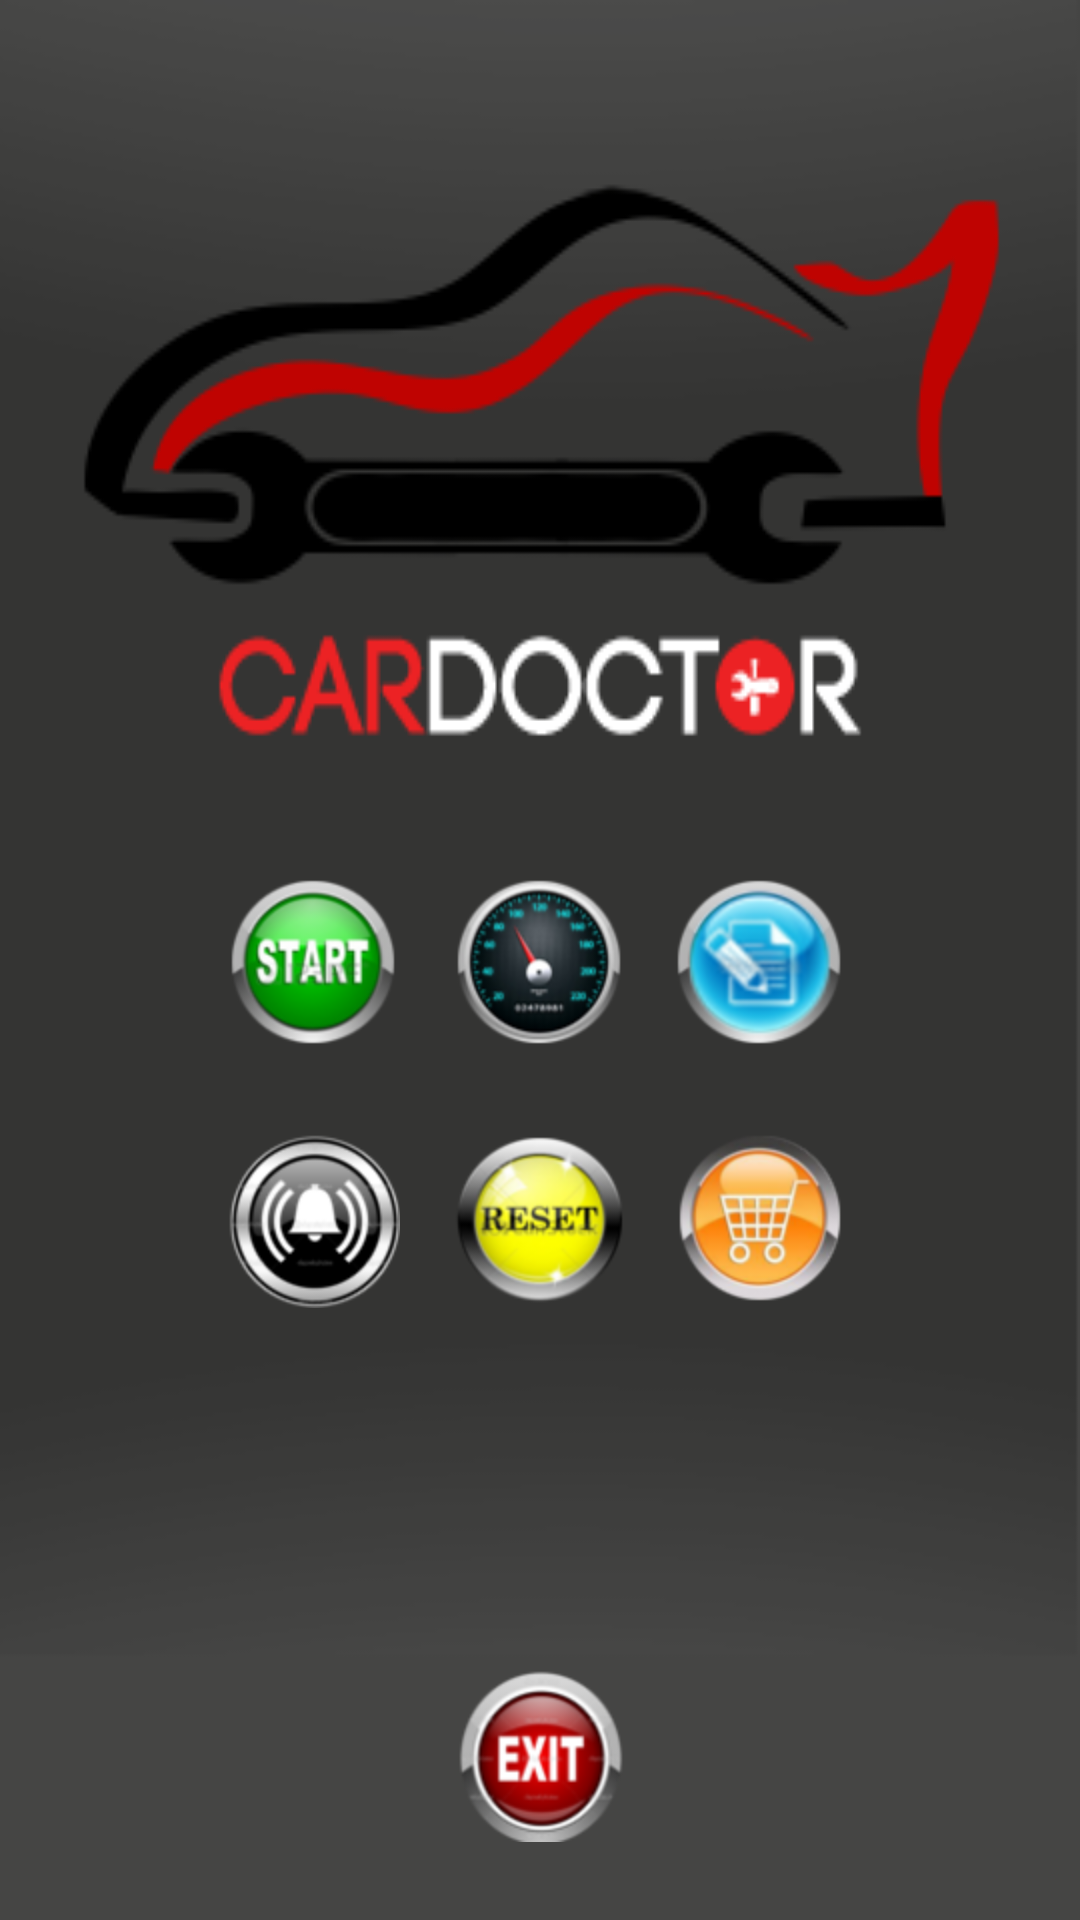

Where to tap for icons on this 1080px×1920px app screen, as (x=x, y=y):
achat: (x=760, y=1223)
formulaire: (x=759, y=962)
kilometre: (x=539, y=962)
notification: (x=315, y=1222)
